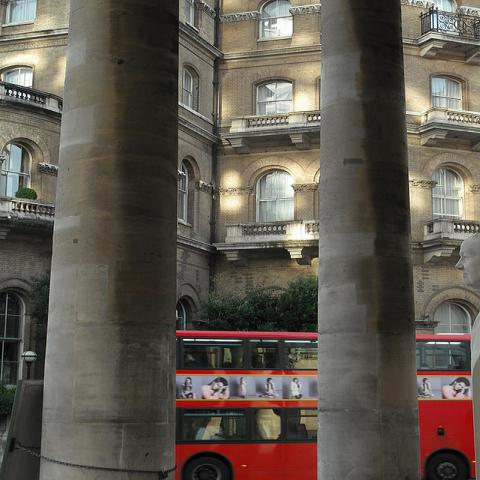bus: (172, 330, 474, 473)
